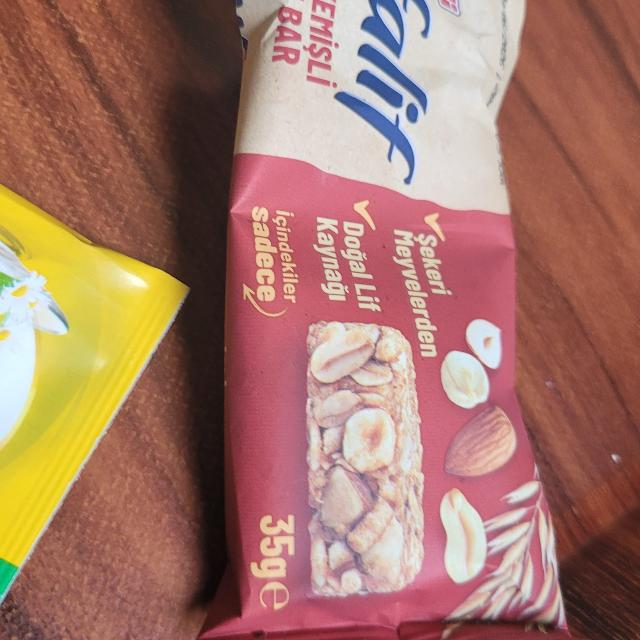Plastik: (236, 4, 555, 640)
